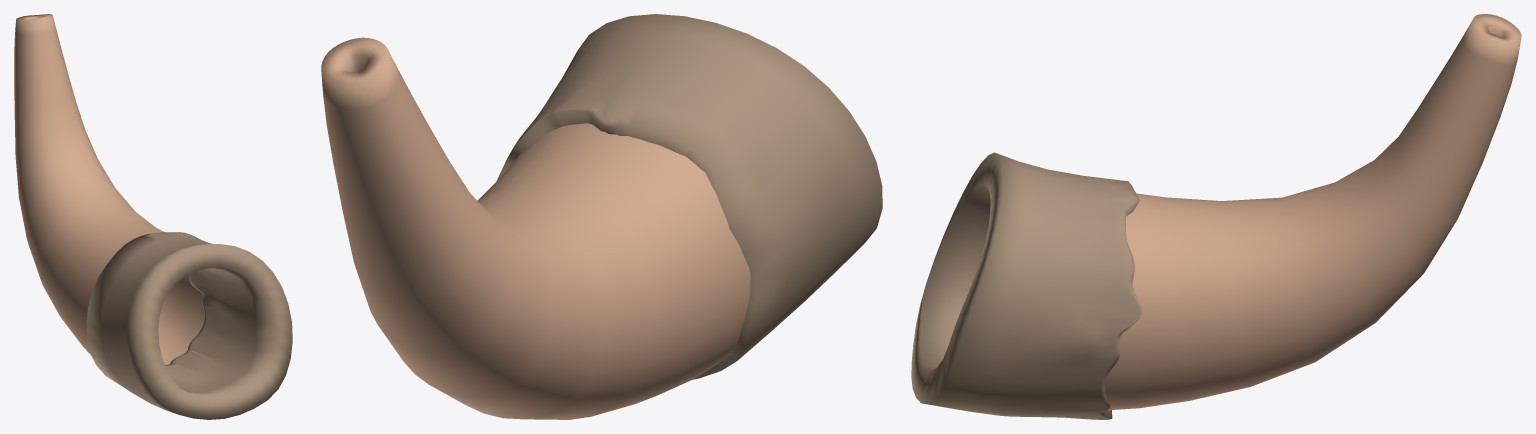
Rendered from HornPath.fbx.
The picture shows the model from 3 angles, left to right: view 1: azimuth 30°, elevation 25°; view 2: azimuth 150°, elevation 25°; view 3: azimuth 270°, elevation 25°; orthographic projection. The views are drawn at different scales.
Parts seen in each view (by area): view 1: Cube; view 2: Cube; view 3: Cube.
Part boxes in pixels (x1,y1,x2,y2): Cube: (14,14,292,419); Cube: (321,14,882,419); Cube: (911,14,1521,419).
Bounding box in the file's own units: 162 × 270 × 380.
